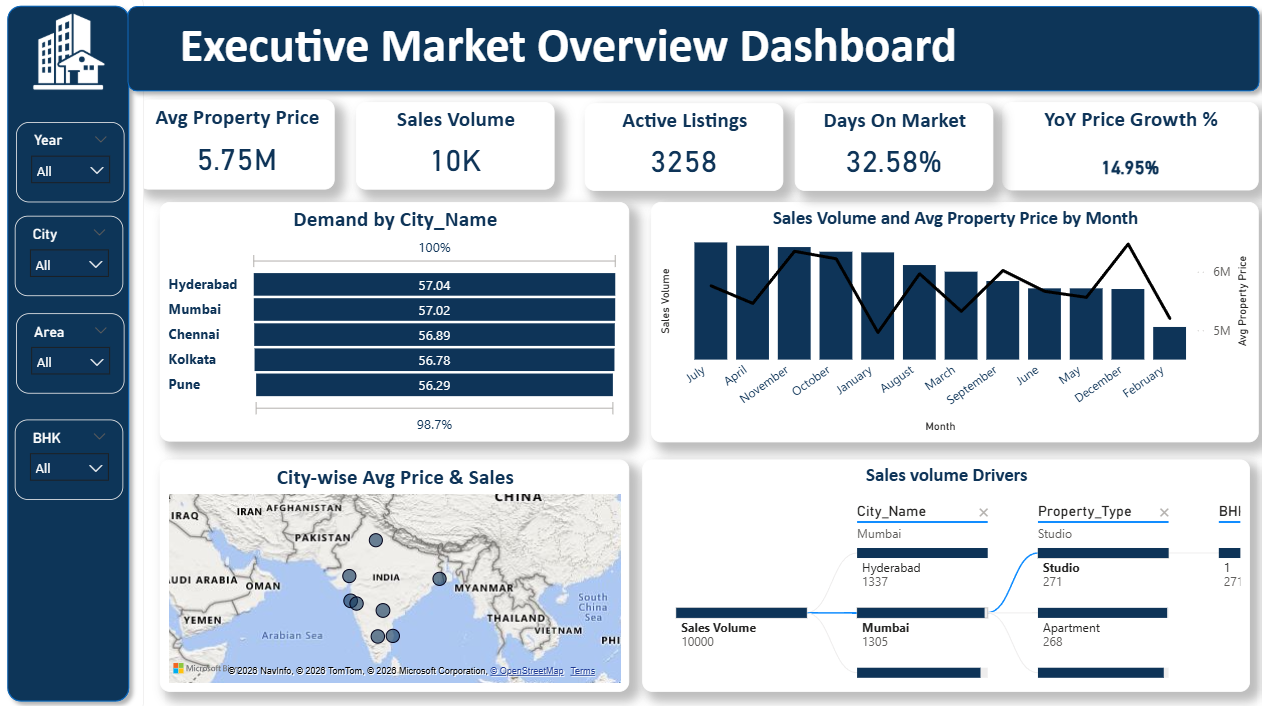

This screenshot's page, from the dashboard's own definition file:
{"tool":"powerbi","page":{"name":"Executive Market Overview Dashboard","canvas":[1280,720],"ordinal":1},"visuals":[{"type":"group","id":"g1","title":"Group 1","box":[7.5,0,149.3,720.3],"z":0,"group":"g2"},{"type":"shape","box":[7.5,0,149.3,720.3],"z":0,"group":"g1"},{"type":"shape","box":[131.6,4.9,1144.4,102.9],"z":0,"group":"g3"},{"type":"card","title":"Avg Property Price","fields":{"Values":["Measures_.Avg Property Price"]},"box":[151.8,107,195.3,89.6],"z":0},{"type":"image","box":[26.2,15.1,113.4,89.2],"z":1000,"group":"g1"},{"type":"textbox","box":[187.9,18.6,834.3,75.5],"z":1000,"group":"g3"},{"type":"cardVisual","title":"YoY Price Growth %","fields":{"Data":["Measures_.YoY Price Growth %"]},"box":[1011.3,109.5,255,88.3],"z":1000},{"type":"slicer","fields":{"Values":["datedim.Year"]},"box":[29.5,129.1,108.1,79.6],"z":1000,"group":"g2"},{"type":"slicer","fields":{"Values":["city.City_Name"]},"box":[28.2,222.4,108.1,79.6],"z":2000,"group":"g2"},{"type":"map","title":"City-wise Avg Price & Sales","fields":{"Category":["city.City_Name"],"Size":["Measures_.Sales Volume"]},"box":[172.5,465,467.5,231.2],"z":2000},{"type":"card","title":"Active Listings","fields":{"Values":["Measures_.Active Listings"]},"box":[595.9,110.7,197.8,87.1],"z":3000},{"type":"slicer","fields":{"Values":["property.BHK"]},"box":[28.2,425.6,108.1,79.6],"z":3000,"group":"g2"},{"type":"lineClusteredColumnComboChart","fields":{"Category":["datedim.Month"],"Y":["Measures_.Sales Volume"],"Y2":["Measures_.Avg Property Price"]},"box":[661.8,209,604.6,238.8],"z":4000},{"type":"slicer","fields":{"Values":["area.Area_Name"]},"box":[29.5,319.9,108.1,79.6],"z":4000,"group":"g2"},{"type":"card","title":"Sales Volume","fields":{"Values":["Measures_.Sales Volume"]},"box":[368.2,109.5,197.8,87.1],"z":5000},{"type":"funnel","fields":{"Category":["city.City_Name"],"Y":["Measures_.Demand"]},"box":[172.5,208.8,467.5,238.8],"z":6000},{"type":"card","title":"Days On Market","fields":{"Values":["Measures_.Avg Days On Market"]},"box":[804.8,110.7,197.8,87.1],"z":7000},{"type":"decompositionTreeVisual","title":"Sales volume Drivers","fields":{"Analyze":["Measures_.Sales Volume"],"ExplainBy":["city.City_Name","property.Property_Type","property.BHK"]},"box":[653.1,465.2,604.6,231.4],"z":8000},{"type":"group","id":"g2","title":"Group 2","box":[7.5,0,149.3,720.3],"z":9000},{"type":"group","id":"g3","title":"Group 3","box":[131.6,4.9,1144.4,102.9],"z":10000}]}

Visuals, with their boxes in screenshot pixels (x1, y1, x2, y2), scaled from the page's 1280x720 canvas onto the 1262x706 screenshot:
"Group 1" group: l=7, t=0, r=155, b=705
shape: l=7, t=0, r=155, b=705
shape: l=130, t=5, r=1258, b=106
"Avg Property Price" card: l=150, t=105, r=342, b=193
image: l=26, t=15, r=138, b=102
textbox: l=185, t=18, r=1008, b=92
"YoY Price Growth %" cardVisual: l=997, t=107, r=1248, b=194
slicer - datedim.Year: l=29, t=127, r=136, b=205
slicer - city.City_Name: l=28, t=218, r=134, b=296
"City-wise Avg Price & Sales" map: l=170, t=456, r=631, b=683
"Active Listings" card: l=588, t=109, r=783, b=194
slicer - property.BHK: l=28, t=417, r=134, b=495
lineClusteredColumnComboChart - datedim.Month x Measures_.Sales Volume: l=652, t=205, r=1249, b=439
slicer - area.Area_Name: l=29, t=314, r=136, b=392
"Sales Volume" card: l=363, t=107, r=558, b=193
funnel - city.City_Name x Measures_.Demand: l=170, t=205, r=631, b=439
"Days On Market" card: l=793, t=109, r=989, b=194
"Sales volume Drivers" decompositionTreeVisual: l=644, t=456, r=1240, b=683
"Group 2" group: l=7, t=0, r=155, b=705
"Group 3" group: l=130, t=5, r=1258, b=106
